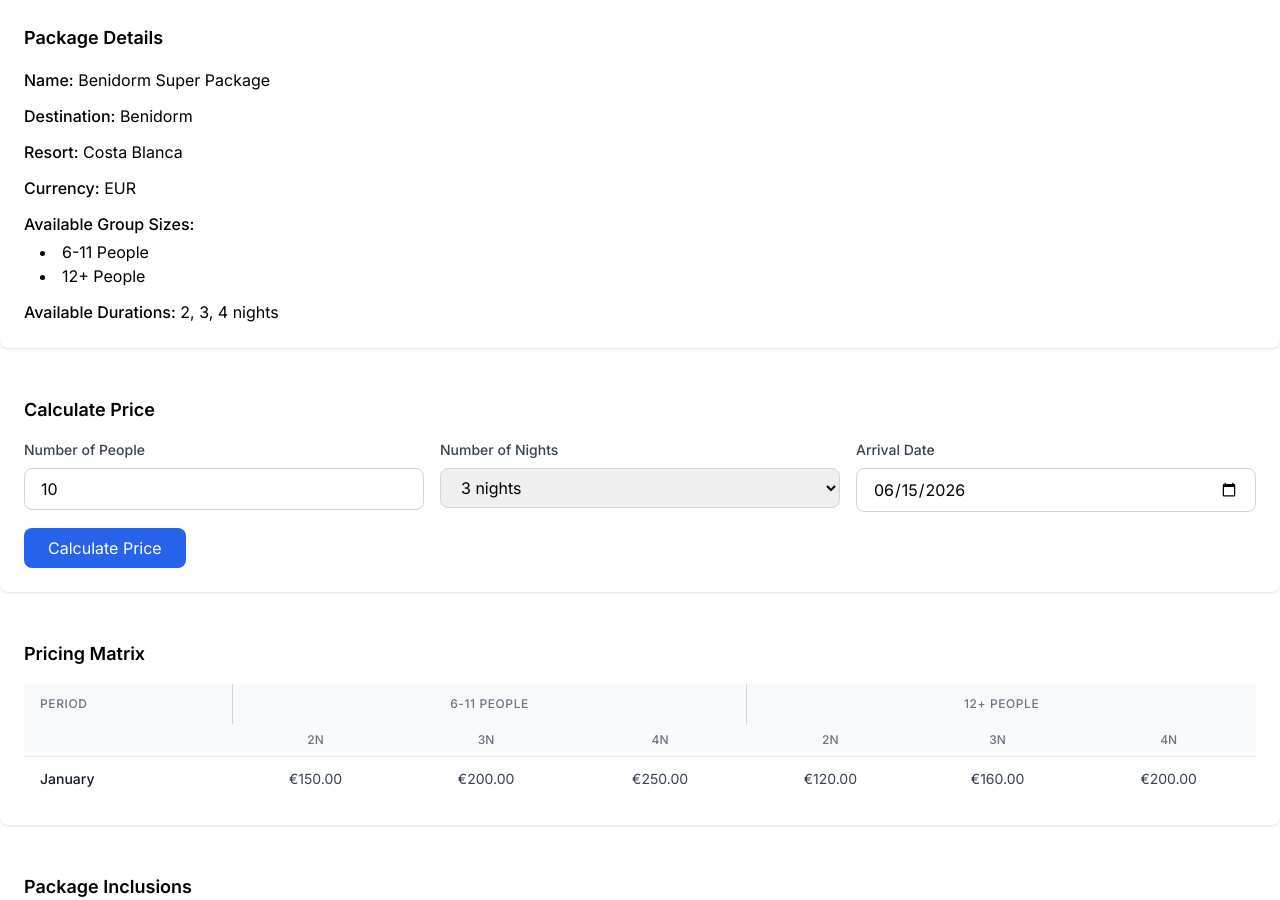
PackagePriceCalculator › Price Calculation › should display error message when calculation fails
What coordinates should you click on to do the following:
click the button "Calculate Price"
I would click on:
 (105, 548)
Its box is [24,528,186,568].
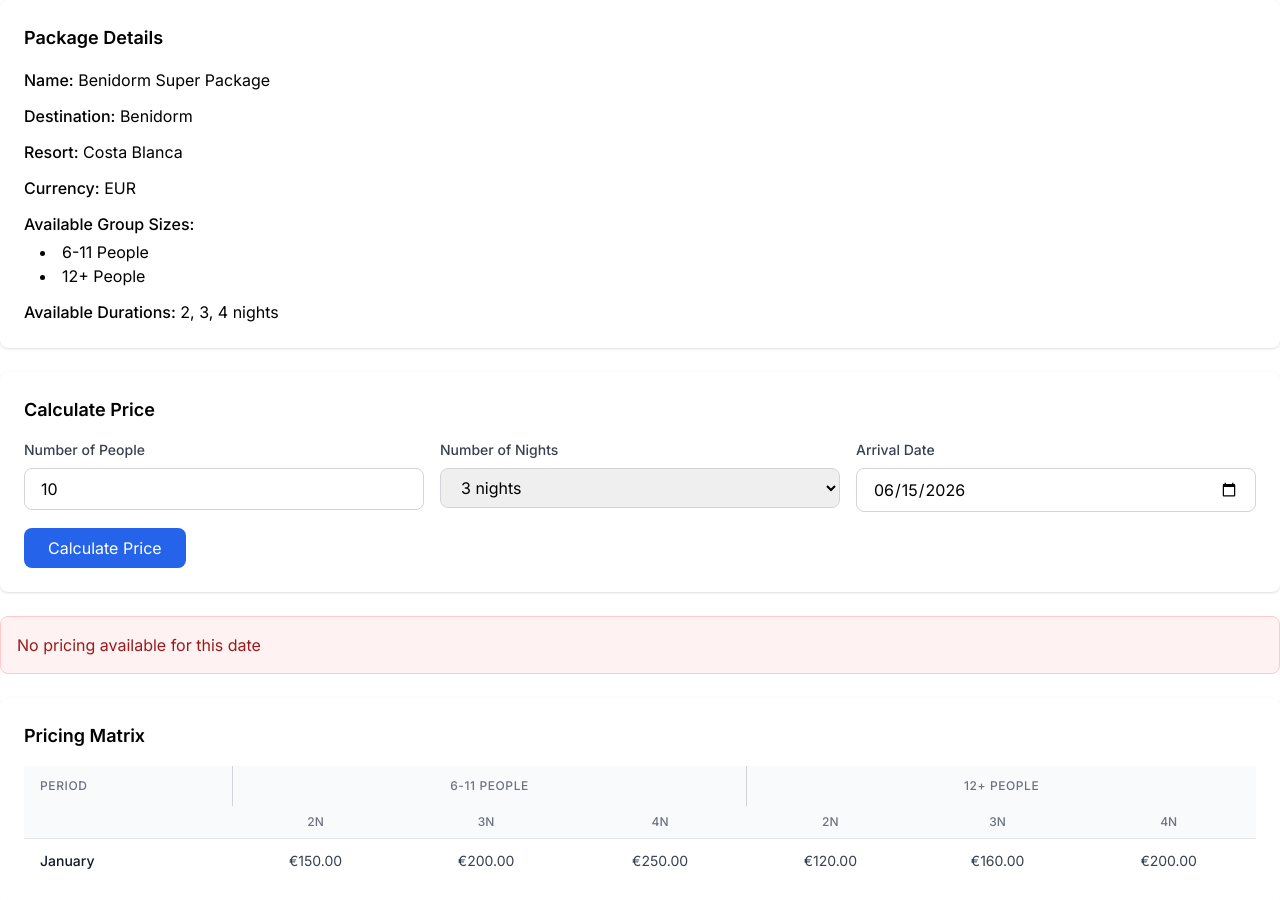
Expected: the text "No pricing available for this date" is shown, [17,635,261,655]
